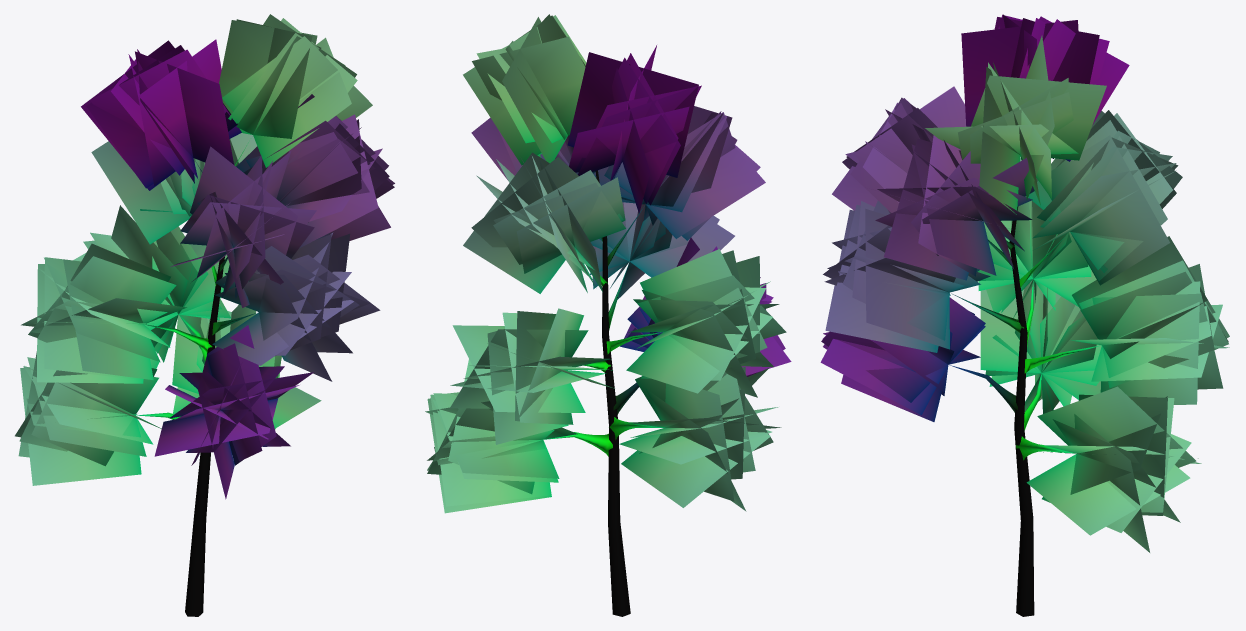
File: URP_P6_Tree_1_LOD_3.fbx
3 renders of one model, left to right at view 1: azimuth 30°, elevation 25°; view 2: azimuth 150°, elevation 25°; view 3: azimuth 270°, elevation 25°, orthographic. The views are drawn at different scales.
Visible parts, largest first — view 1: Tree_1_LOD_3; view 2: Tree_1_LOD_3; view 3: Tree_1_LOD_3.
Boxes of the visible parts, left/top/right/bottom form: Tree_1_LOD_3: left=15, top=14, right=394, bottom=616; Tree_1_LOD_3: left=425, top=14, right=791, bottom=616; Tree_1_LOD_3: left=820, top=14, right=1229, bottom=616.
Bounding box in the file's own units: 506 × 873 × 541.
